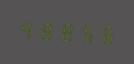eight: (37, 18, 55, 43), (56, 19, 74, 44)
five: (75, 20, 93, 45)
four: (18, 17, 36, 42)
six: (94, 21, 112, 46)
